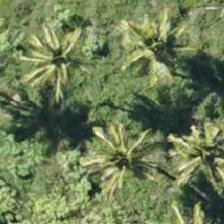coconut_tree: (78, 105, 168, 195), (104, 6, 194, 96), (73, 107, 163, 197), (108, 7, 198, 97), (10, 13, 100, 103), (162, 111, 223, 201)
